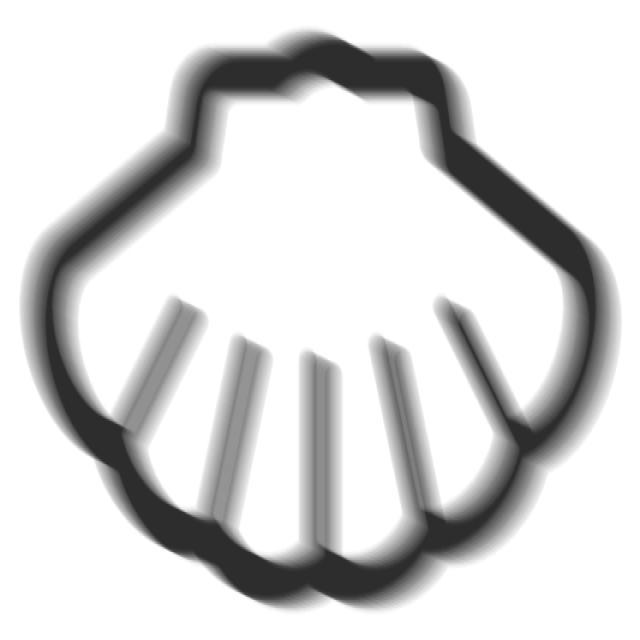shell: (11, 17, 630, 627)
